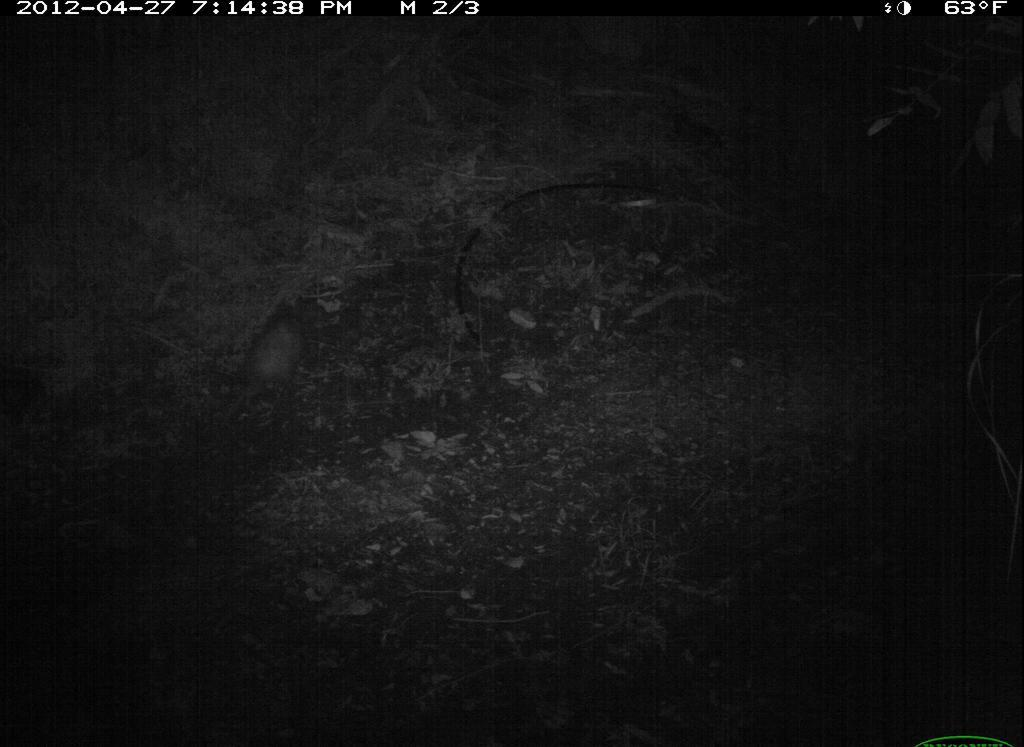opossum: (210, 290, 331, 432)
